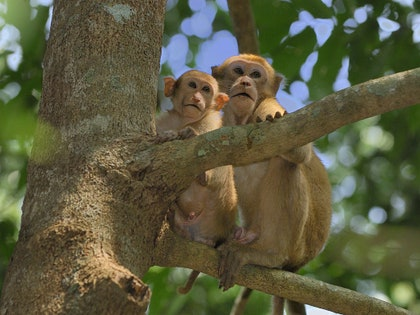monkey: (205, 40, 344, 293), (147, 61, 256, 259)
